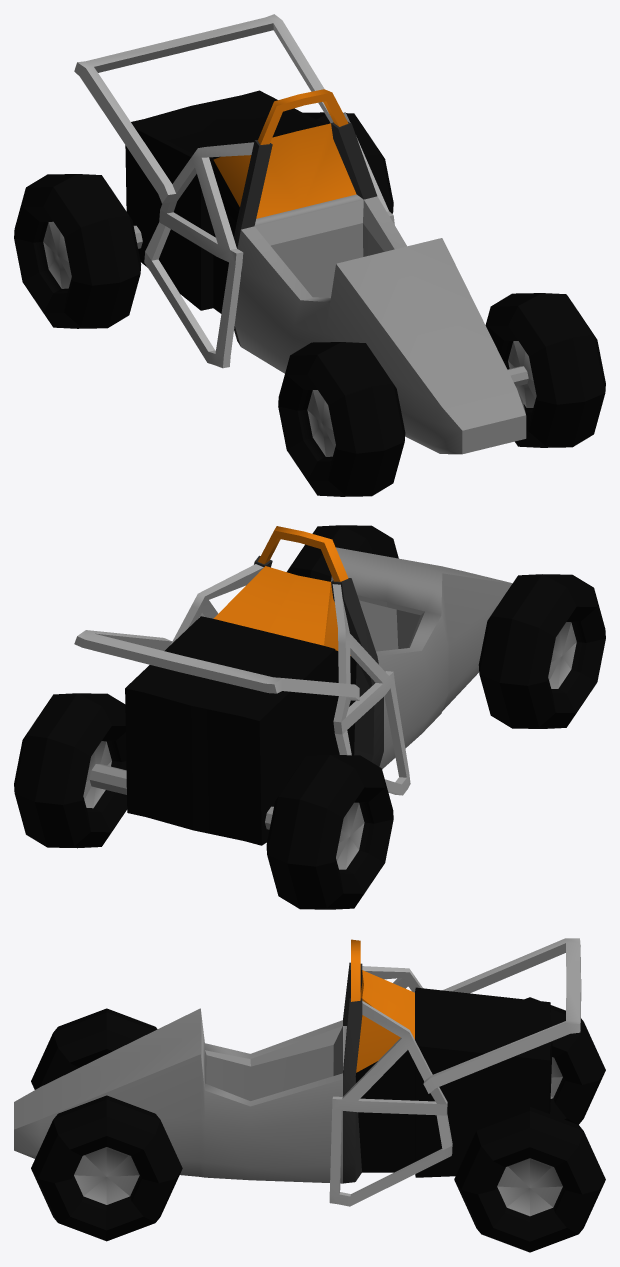
File: formulaCar_model1.fbx
3 views of the same model, one above another, from view 1: azimuth 30°, elevation 25°; view 2: azimuth 150°, elevation 25°; view 3: azimuth 270°, elevation 25° (orthographic). The views are drawn at different scales.
Parts seen in each view (by area): view 1: SM_CartBody, SM_TireFR, SM_TireBR, SM_TireFL, SM_TireBL; view 2: SM_CartBody, SM_TireBR, SM_TireFR, SM_TireBL, SM_TireFL, SM_BarBack; view 3: SM_CartBody, SM_TireBL, SM_TireFL, SM_TireFR, SM_TireBR.
Part boxes in pixels (bbox=[...]): SM_CartBody: bbox=[74, 14, 526, 454]; SM_TireFR: bbox=[278, 342, 405, 496]; SM_TireBR: bbox=[14, 174, 141, 328]; SM_TireFL: bbox=[485, 293, 605, 447]; SM_TireBL: bbox=[303, 112, 393, 213]; SM_CartBody: bbox=[74, 526, 512, 845]; SM_TireBR: bbox=[266, 755, 393, 909]; SM_TireFR: bbox=[478, 574, 605, 728]; SM_TireBL: bbox=[14, 693, 127, 848]; SM_TireFL: bbox=[287, 525, 398, 581]; SM_BarBack: bbox=[89, 764, 273, 829]; SM_CartBody: bbox=[14, 938, 581, 1206]; SM_TireBL: bbox=[454, 1106, 605, 1252]; SM_TireFL: bbox=[31, 1095, 182, 1241]; SM_TireFR: bbox=[31, 1008, 157, 1089]; SM_TireBR: bbox=[525, 997, 605, 1124].
Size of the model in its own units: 5.46 by 4.45 by 9.81.
